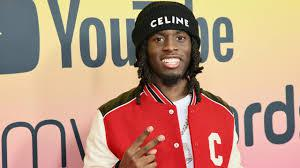kai-cenat: (146, 27, 194, 86)
